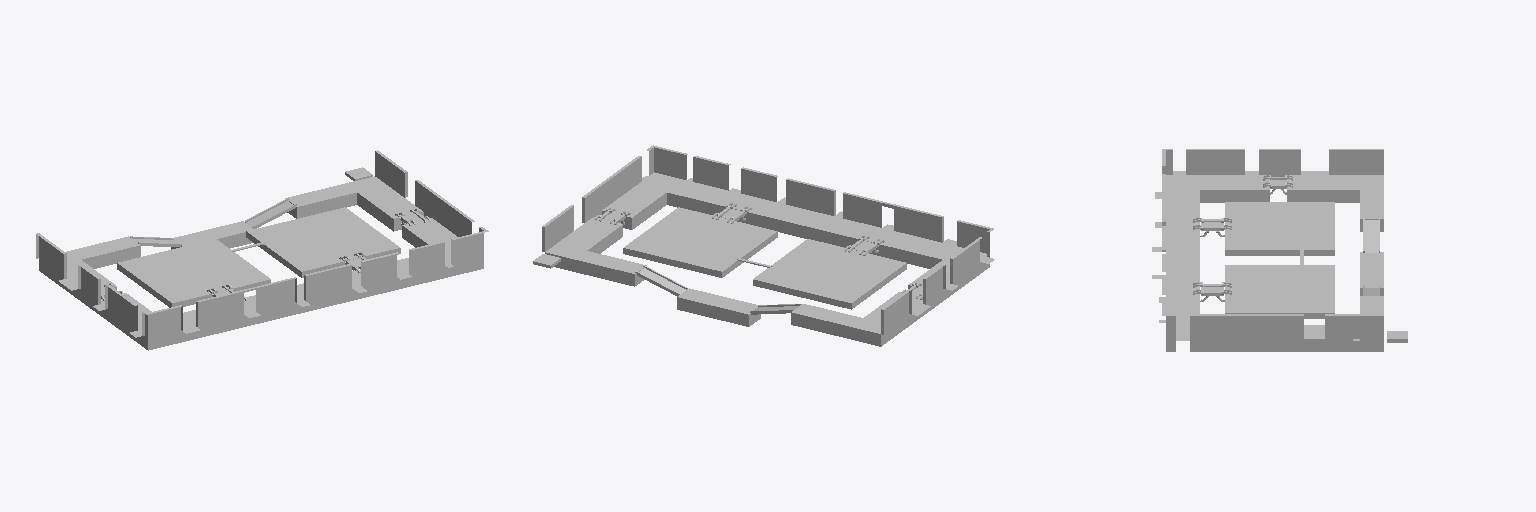
The model's file is WholeMapFloors2020.obj.
3 renders of one model, left to right at view 1: azimuth 30°, elevation 25°; view 2: azimuth 150°, elevation 25°; view 3: azimuth 270°, elevation 25°, orthographic.
Visible parts, largest first — view 1: Cube, Cube.002, Cube.001; view 2: Cube, Cube.002, Cube.001; view 3: Cube, Cube.002, Cube.001.
Boxes of the visible parts, box(x1,y1,x2,y2) form: Cube: box(39, 167, 483, 350); Cube.002: box(36, 150, 488, 337); Cube.001: box(101, 198, 430, 300); Cube: box(533, 172, 994, 346); Cube.002: box(542, 145, 993, 334); Cube.001: box(595, 203, 922, 314); Cube: box(1152, 171, 1407, 351); Cube.002: box(1162, 149, 1383, 351); Cube.001: box(1193, 175, 1379, 301).
Size of the model in its own units: 58 by 8 by 37.